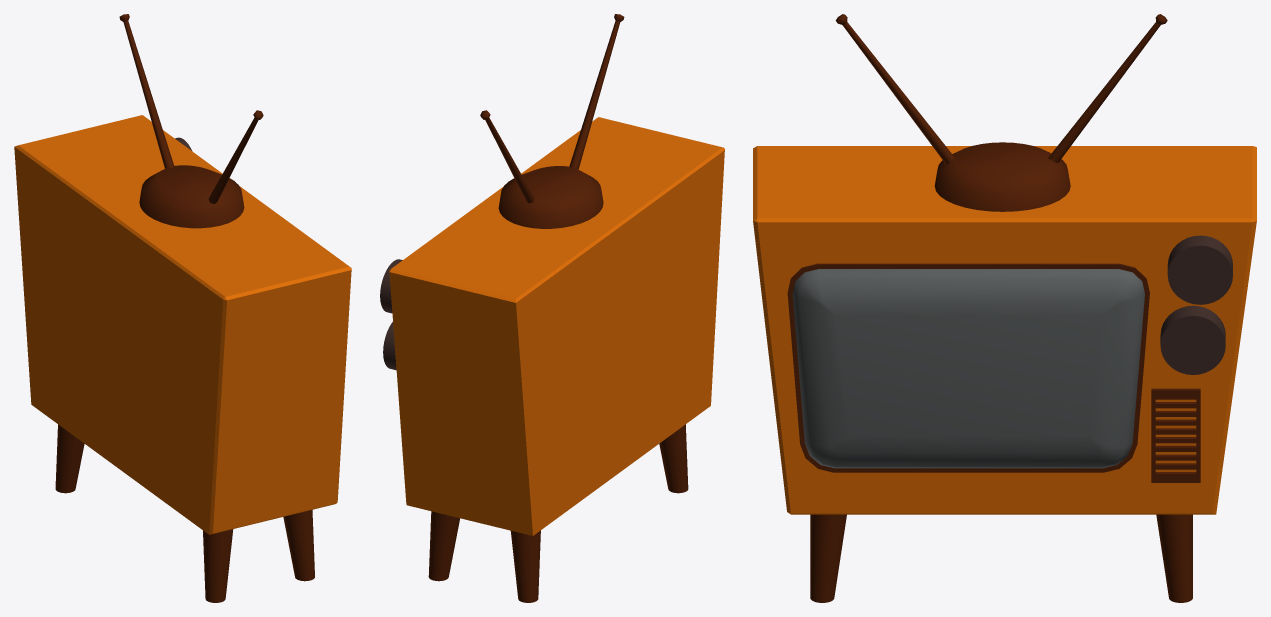
The model's file is TvOld.fbx.
The picture shows the model from 3 angles, left to right: view 1: azimuth 30°, elevation 25°; view 2: azimuth 150°, elevation 25°; view 3: azimuth 270°, elevation 25°; orthographic projection. The views are drawn at different scales.
Visible parts, largest first — view 1: Cube, Cube.002, Cylinder.001, Cylinder.002; view 2: Cube, Cube.002, Cylinder.001, Cylinder.002, Cylinder; view 3: Cube, Cube.003, Cube.002, Cylinder, Cube.004, Cylinder.001, Plane, Cylinder.002.
Boxes of the visible parts, box(x1,y1,x2,y2) form: Cube: box(14, 115, 351, 534); Cube.002: box(139, 165, 244, 228); Cylinder.001: box(55, 424, 314, 602); Cylinder.002: box(119, 14, 263, 203); Cube: box(389, 117, 724, 535); Cube.002: box(498, 166, 603, 228); Cylinder.001: box(428, 424, 688, 602); Cylinder.002: box(480, 14, 624, 203); Cylinder: box(380, 259, 402, 370); Cube: box(753, 146, 1256, 514); Cube.003: box(792, 269, 1144, 468); Cube.002: box(934, 142, 1070, 211); Cylinder: box(1160, 235, 1232, 374); Cube.004: box(787, 263, 1149, 472); Cylinder.001: box(810, 514, 1192, 602); Plane: box(1151, 388, 1200, 482); Cylinder.002: box(835, 14, 1167, 164).
Bounding box in the file's own units: 156 × 480 × 391.
